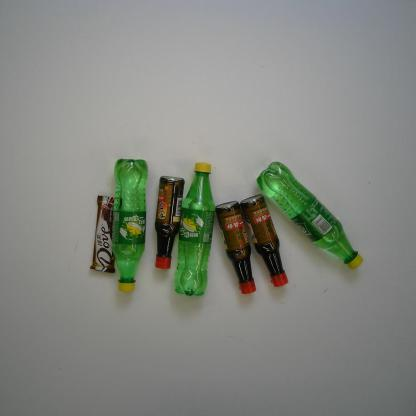Chocolate: (88, 194, 122, 274)
Drink: (256, 160, 364, 271), (172, 161, 217, 297), (110, 158, 149, 294)
Seasoner: (240, 193, 289, 288), (214, 200, 257, 295), (154, 175, 185, 270)
